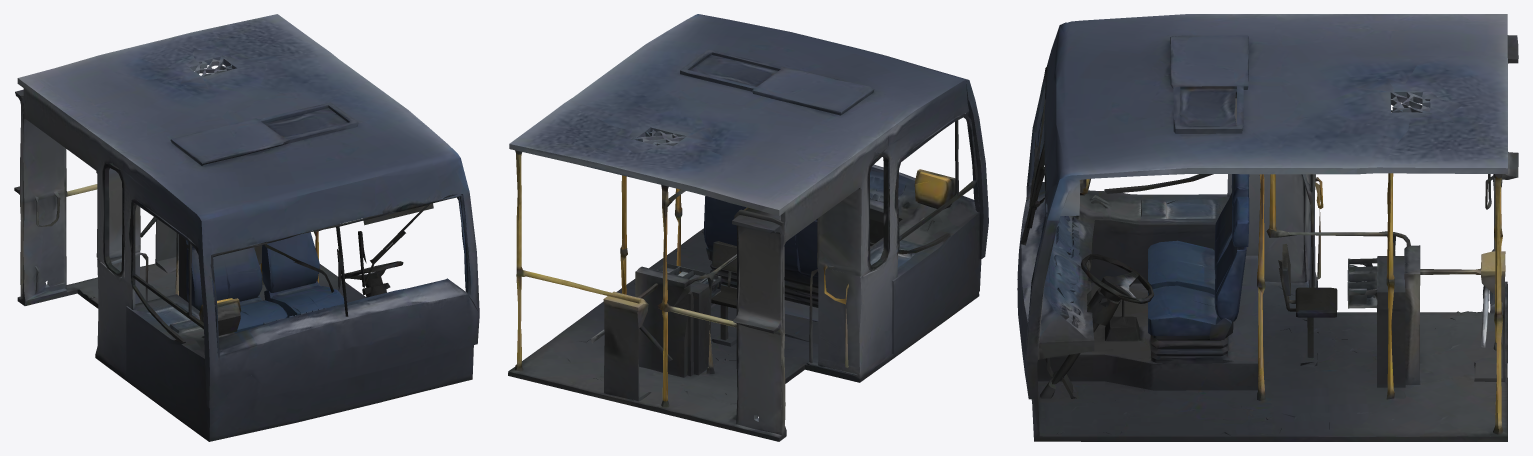
Rendered from int_onibus.glb.
3 renders of one model, left to right at view 1: azimuth 30°, elevation 25°; view 2: azimuth 150°, elevation 25°; view 3: azimuth 270°, elevation 25°, orthographic. The views are drawn at different scales.
Parts seen in each view (by area): view 1: veiculo; view 2: veiculo; view 3: veiculo.
Part boxes in pixels (x1,y1,x2,y2): veiculo: [14, 14, 479, 441]; veiculo: [508, 14, 988, 441]; veiculo: [1017, 14, 1518, 441].
Size of the model in its own units: 2.5 by 2.03 by 3.3.
Materials: 1 (1 with a texture image).
